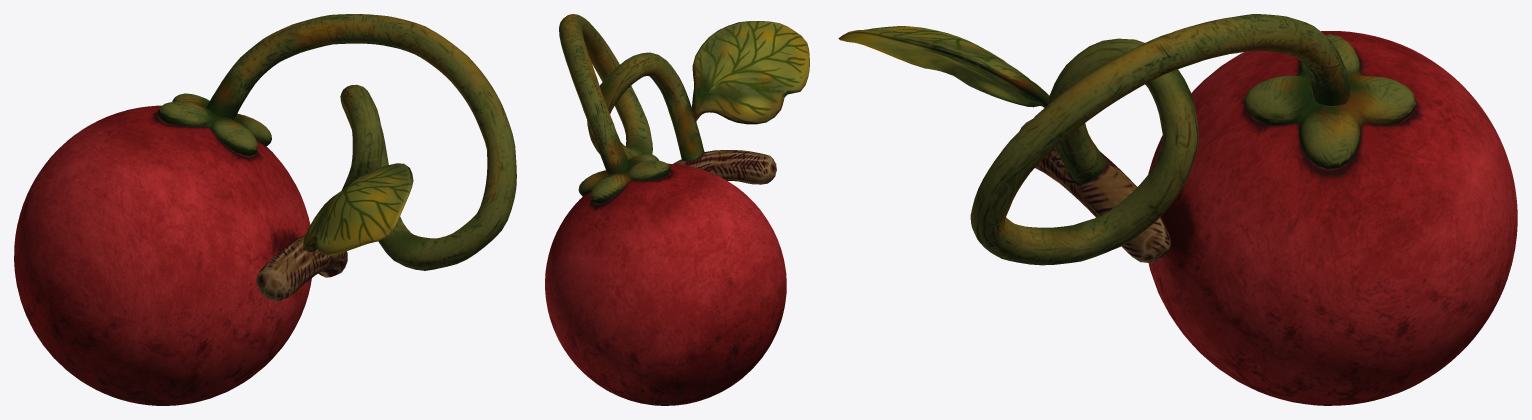
3 renders of one model, left to right at view 1: azimuth 30°, elevation 25°; view 2: azimuth 150°, elevation 25°; view 3: azimuth 270°, elevation 25°, orthographic. The views are drawn at different scales.
Parts seen in each view (by area): view 1: fruit, Fruit path, leaf, top leaves, Fruit stems; view 2: fruit, Fruit path, leaf, Fruit stems, top leaves; view 3: fruit, Fruit path, top leaves, leaf, Fruit stems.
Boxes of the visible parts, x1,y1,x2,y2 form: fruit: (14, 105, 311, 405); Fruit path: (206, 14, 516, 270); leaf: (303, 163, 413, 255); top leaves: (157, 93, 271, 155); Fruit stems: (256, 235, 347, 301); fruit: (545, 163, 786, 405); Fruit path: (559, 14, 704, 175); leaf: (692, 21, 809, 124); Fruit stems: (673, 150, 776, 184); top leaves: (578, 154, 670, 204); fruit: (1148, 31, 1517, 405); Fruit path: (970, 14, 1350, 265); top leaves: (1244, 34, 1416, 169); leaf: (838, 26, 1049, 107); Fruit stems: (1019, 119, 1170, 263).
Size of the model in its own units: 0.7546 by 0.7559 by 1.
Materials: 5 (5 with a texture image).
